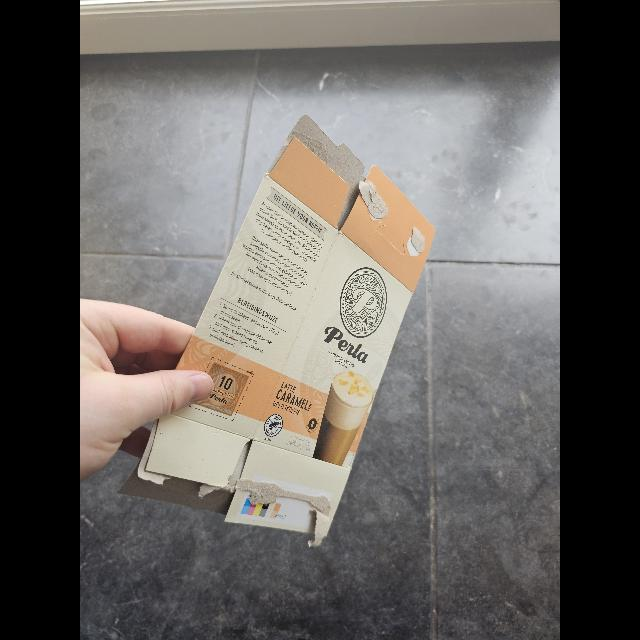Cardboard: (126, 102, 440, 552)
